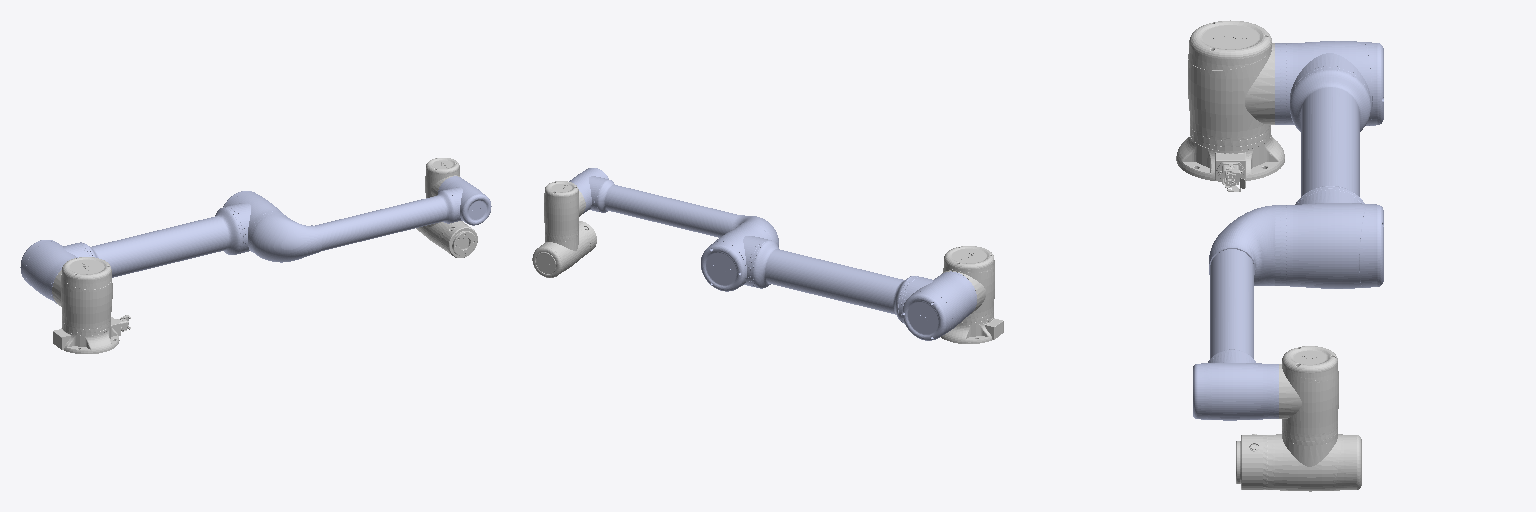
robot.urdf — zu7_1200:
<?xml version="1.0" encoding="utf-8"?>
<!-- This URDF was automatically created by SolidWorks to URDF Exporter! Originally created by [author] ([email redacted]) 
     Commit Version: 1.5.1-0-g916b5db  Build Version: 1.5.7152.31018
     For more information, please see http://wiki.ros.org/sw_urdf_exporter -->
<robot
  name="zu7_1200">
  <link
    name="Link_00">
    <inertial>
      <origin
        xyz="0.0028167 -0.00019453 0.019544"
        rpy="0 0 0" />
      <mass
        value="0.52664" />
      <inertia
        ixx="0.0006297"
        ixy="-2.4148E-08"
        ixz="3.2361E-06"
        iyy="0.00086881"
        iyz="2.45E-07"
        izz="0.001363" />
    </inertial>
    <visual>
      <origin
        xyz="0 0 0"
        rpy="0 0 0" />
      <geometry>
        <mesh
          filename="package://jaka_description/meshes/zu7_1200/Link_00.STL" />
      </geometry>
      <material
        name="">
        <color
          rgba="0.84706 0.84706 0.84706 1" />
      </material>
    </visual>
    <collision>
      <origin
        xyz="0 0 0"
        rpy="0 0 0" />
      <geometry>
        <mesh
          filename="package://jaka_description/meshes/zu7_1200/Link_00.STL" />
      </geometry>
    </collision>
  </link>
  <link
    name="Link_01">
    <inertial>
      <origin
        xyz="-2.5186E-07 0.0033226 -0.001509"
        rpy="0 0 0" />
      <mass
        value="15.135" />
      <inertia
        ixx="0.044302"
        ixy="1.5349E-07"
        ixz="-6.1966E-07"
        iyy="0.043091"
        iyz="1.4326E-05"
        izz="0.030523" />
    </inertial>
    <visual>
      <origin
        xyz="0 0 0"
        rpy="0 0 0" />
      <geometry>
        <mesh
          filename="package://jaka_description/meshes/zu7_1200/Link_01.STL" />
      </geometry>
      <material
        name="">
        <color
          rgba="0.84706 0.84706 0.84706 1" />
      </material>
    </visual>
    <collision>
      <origin
        xyz="0 0 0"
        rpy="0 0 0" />
      <geometry>
        <mesh
          filename="package://jaka_description/meshes/zu7_1200/Link_01.STL" />
      </geometry>
    </collision>
  </link>
  <joint
    name="joint_1"
    type="revolute">
    <origin
      xyz="0 -0.00022535 0.12015"
      rpy="0 0 0" />
    <parent
      link="Link_00" />
    <child
      link="Link_01" />
    <axis
      xyz="0 0 1" />
    <limit effort="28.0" lower="-6.28" upper="6.28" velocity="3.2"/>
  </joint>
  <link
    name="Link_02">
    <inertial>
      <origin
        xyz="0.18 -3.4142E-07 -0.14305"
        rpy="0 0 0" />
      <mass
        value="5.4602" />
      <inertia
        ixx="0.012904"
        ixy="-1.7678E-07"
        ixz="1.1617E-07"
        iyy="0.14158"
        iyz="1.5067E-08"
        izz="0.13809" />
    </inertial>
    <visual>
      <origin
        xyz="0 0 0"
        rpy="0 0 0" />
      <geometry>
        <mesh
          filename="package://jaka_description/meshes/zu7_1200/Link_02_1200.STL" />
      </geometry>
      <material
        name="">
        <color
          rgba="0.79216 0.81961 0.93333 1" />
      </material>
    </visual>
    <collision>
      <origin
        xyz="0 0 0"
        rpy="0 0 0" />
      <geometry>
        <mesh
          filename="package://jaka_description/meshes/zu7_1200/Link_02.STL" />
      </geometry>
    </collision>
  </link>
  <joint
    name="joint_2"
    type="revolute">
    <origin
      xyz="0 0 0"
      rpy="1.5708 0 0" />
    <parent
      link="Link_01" />
    <child
      link="Link_02" />
    <axis
      xyz="0 0 1" />
	<limit effort="28.0" lower="-1.484" upper="4.63" velocity="3.2"/>
  </joint>
  <link
    name="Link_03">
    <inertial>
      <origin
        xyz="0.15497 4.9469E-07 -0.012633"
        rpy="0 0 0" />
      <mass
        value="2.1076" />
      <inertia
        ixx="0.0026332"
        ixy="-1.1342E-07"
        ixz="-0.0015213"
        iyy="0.013431"
        iyz="-5.4228E-09"
        izz="0.012808" />
    </inertial>
    <visual>
      <origin
        xyz="0 0 0"
        rpy="0 0 0" />
      <geometry>
        <mesh
          filename="package://jaka_description/meshes/zu7_1200/Link_03_1200.STL" />
      </geometry>
      <material
        name="">
        <color
          rgba="0.79216 0.81961 0.93333 1" />
      </material>
    </visual>
    <collision>
      <origin
        xyz="0 0 0"
        rpy="0 0 0" />
      <geometry>
        <mesh
          filename="package://jaka_description/meshes/zu7_1200/Link_03.STL" />
      </geometry>
    </collision>
  </link>
  <joint
    name="joint_3"
    type="revolute">
    <origin
      xyz="0.555 0 0"
      rpy="0 0 0" />
    <parent
      link="Link_02" />
    <child
      link="Link_03" />
    <axis
      xyz="0 0 1" />
    <limit effort="28.0" lower="-3.05" upper="3.05" velocity="3.2"/>
  </joint>
  <link
    name="Link_04">
    <inertial>
      <origin
        xyz="-1.9782E-06 -0.0058918 0.002676"
        rpy="0 0 0" />
      <mass
        value="5.5436" />
      <inertia
        ixx="0.0070881"
        ixy="1.831E-07"
        ixz="-2.3053E-08"
        iyy="0.0051679"
        iyz="-0.00039809"
        izz="0.0068471" />
    </inertial>
    <visual>
      <origin
        xyz="0 0 0"
        rpy="0 0 0" />
      <geometry>
        <mesh
          filename="package://jaka_description/meshes/zu7_1200/Link_04.STL" />
      </geometry>
      <material
        name="">
        <color
          rgba="0.84706 0.84706 0.84706 1" />
      </material>
    </visual>
    <collision>
      <origin
        xyz="0 0 0"
        rpy="0 0 0" />
      <geometry>
        <mesh
          filename="package://jaka_description/meshes/zu7_1200/Link_04.STL" />
      </geometry>
    </collision>
  </link>
  <joint
    name="joint_4"
    type="revolute">
    <origin
      xyz="0.50 0 -0.11501"
      rpy="0 0 0" />
    <parent
      link="Link_03" />
    <child
      link="Link_04" />
    <axis
      xyz="0 0 1" />
    <limit effort="28.0" lower="-1.484" upper="4.63" velocity="3.2"/>
  </joint>
  <link
    name="Link_05">
    <inertial>
      <origin
        xyz="-1.9094E-06 -0.0028891 -0.0023424"
        rpy="0 0 0" />
      <mass
        value="6.3339" />
      <inertia
        ixx="0.01292"
        ixy="-1.0866E-07"
        ixz="5.8906E-09"
        iyy="0.0058453"
        iyz="4.296E-05"
        izz="0.012628" />
    </inertial>
    <visual>
      <origin
        xyz="0 0 0"
        rpy="0 0 0" />
      <geometry>
        <mesh
          filename="package://jaka_description/meshes/zu7_1200/Link_05.STL" />
      </geometry>
      <material
        name="">
        <color
          rgba="0.84706 0.84706 0.84706 1" />
      </material>
    </visual>
    <collision>
      <origin
        xyz="0 0 0"
        rpy="0 0 0" />
      <geometry>
        <mesh
          filename="package://jaka_description/meshes/zu7_1200/Link_05.STL" />
      </geometry>
    </collision>
  </link>
  <joint
    name="joint_5"
    type="revolute">
    <origin
      xyz="0 -0.113500000007044 0"
      rpy="1.5707963267949 0 0" />
    <parent
      link="Link_04" />
    <child
      link="Link_05" />
    <axis
      xyz="0 0 1" />
    <limit effort="28.0" lower="-6.28" upper="6.28" velocity="3.2"/>
  </joint>
  <link
    name="Link_06">
    <inertial>
      <origin
        xyz="2.7652E-05 -1.3485E-05 -0.021245"
        rpy="0 0 0" />
      <mass
        value="1.4169" />
      <inertia
        ixx="0.0007137"
        ixy="-6.9116E-07"
        ixz="-6.3673E-07"
        iyy="0.00072363"
        iyz="1.589E-06"
        izz="0.001129" />
    </inertial>
    <visual>
      <origin
        xyz="0 0 0"
        rpy="0 0 0" />
      <geometry>
        <mesh
          filename="package://jaka_description/meshes/zu7_1200/Link_06.STL" />
      </geometry>
      <material
        name="">
        <color
          rgba="0.84706 0.84706 0.84706 1" />
      </material>
    </visual>
    <collision>
      <origin
        xyz="0 0 0"
        rpy="0 0 0" />
      <geometry>
        <mesh
          filename="package://jaka_description/meshes/zu7_1200/Link_06.STL" />
      </geometry>
    </collision>
  </link>
  <joint
    name="joint_6"
    type="revolute">
    <origin
      xyz="0 0.107000000007045 0"
      rpy="-1.5707963267949 0 0" />
    <parent
      link="Link_05" />
    <child
      link="Link_06" />
    <axis
      xyz="0 0 1" />
    <limit effort="28.0" lower="-6.28" upper="6.28" velocity="3.2"/>
  </joint>
</robot>

--- What the picture shows (computed from the rendered views, not written in the file) ---
Views: 3 orthographic renders of the robot side by side, from view 1: azimuth 30°, elevation 25°; view 2: azimuth 150°, elevation 25°; view 3: azimuth 270°, elevation 25°.
Robot: zu7_1200 — 7 links, 6 joints (6 revolute); root link Link_00; default pose: all joints at 0.
Visible links, largest first — view 1: Link_02, Link_03, Link_01, Link_00, Link_06, Link_04; view 2: Link_02, Link_03, Link_01, Link_04, Link_05, Link_00; view 3: Link_02, Link_03, Link_01, Link_04, Link_05, Link_00, Link_06.
Link boxes in pixels (bbox=[...]): Link_02: bbox=[20, 191, 289, 303]; Link_03: bbox=[252, 176, 491, 262]; Link_01: bbox=[52, 257, 112, 335]; Link_00: bbox=[53, 315, 130, 353]; Link_06: bbox=[442, 223, 477, 257]; Link_04: bbox=[425, 158, 459, 197]; Link_02: bbox=[701, 222, 976, 340]; Link_03: bbox=[569, 168, 778, 246]; Link_01: bbox=[942, 246, 994, 324]; Link_04: bbox=[544, 181, 585, 241]; Link_05: bbox=[532, 227, 590, 277]; Link_00: bbox=[941, 317, 1003, 343]; Link_02: bbox=[1275, 41, 1383, 288]; Link_03: bbox=[1193, 205, 1278, 420]; Link_01: bbox=[1188, 20, 1274, 150]; Link_04: bbox=[1279, 346, 1338, 445]; Link_05: bbox=[1263, 434, 1361, 491]; Link_00: bbox=[1176, 135, 1284, 191]; Link_06: bbox=[1236, 434, 1262, 489].
Bounding box of the posed robot: 1.18 × 0.3009 × 0.2332 m (x, y, z).
7 mesh visuals loaded from 7 distinct referenced files (7 binary STL).
